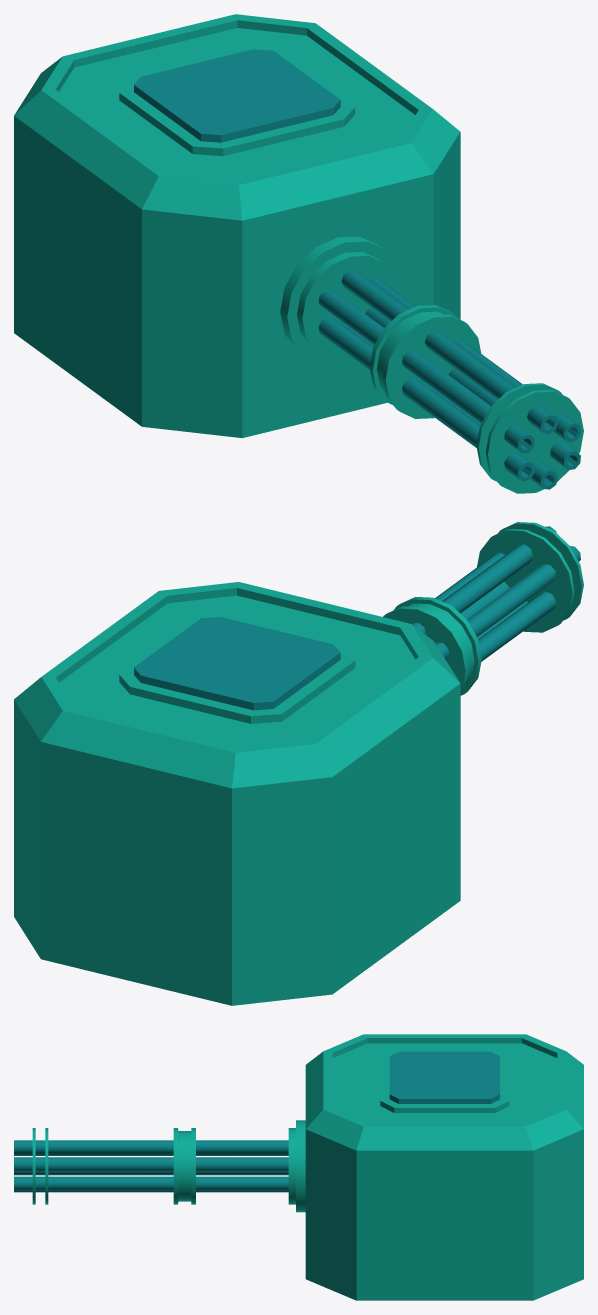
File: HeadMeetra.fbx
3 views of the same model, one above another, from view 1: azimuth 30°, elevation 25°; view 2: azimuth 150°, elevation 25°; view 3: azimuth 270°, elevation 25° (orthographic). The views are drawn at different scales.
Parts seen in each view (by area): view 1: HeadMeetra, Meetra; view 2: HeadMeetra, Meetra; view 3: HeadMeetra, Meetra.
Part boxes in pixels (x1,y1,x2,y2): HeadMeetra: (14,14,460,438); Meetra: (297,252,583,493); HeadMeetra: (14,582,460,1005); Meetra: (383,522,583,695); HeadMeetra: (296,1034,583,1300); Meetra: (14,1128,295,1204).
Size of the model in its own units: 0.5778 by 0.4313 by 1.3.
